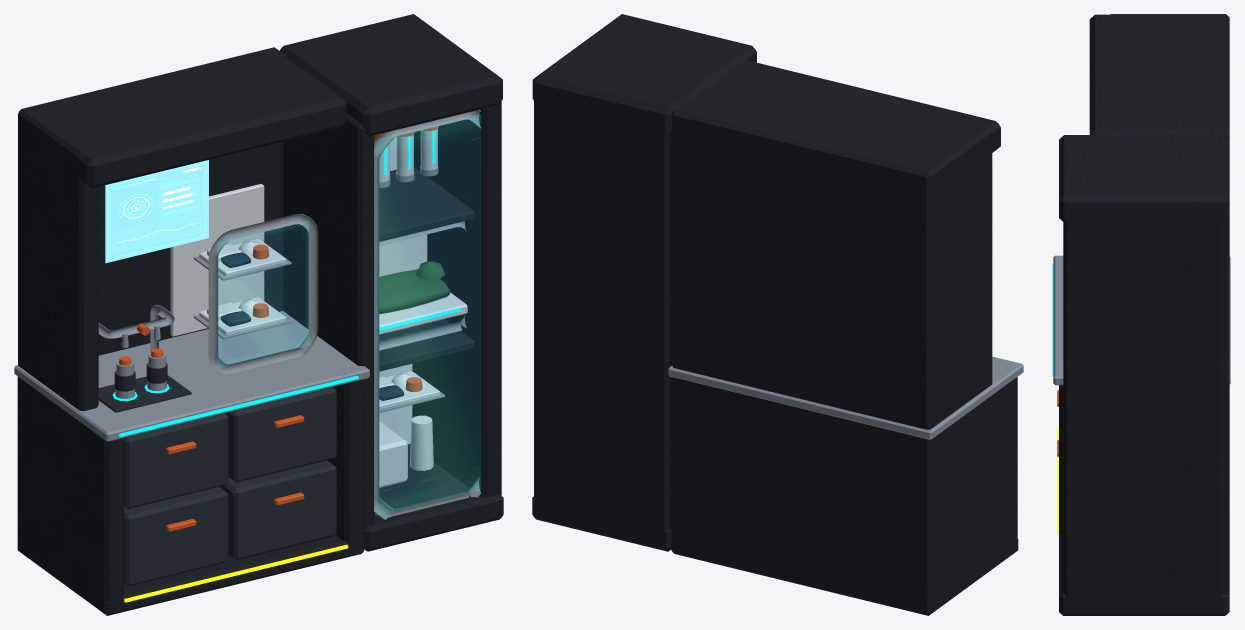
File: galley_synth_winner_01_dual_zone_synth_herb_tower.glb
3 views of the same model, side by side, from view 1: azimuth 30°, elevation 25°; view 2: azimuth 150°, elevation 25°; view 3: azimuth 270°, elevation 25° (orthographic). The views are drawn at different scales.
Parts seen in each view (by area): view 1: Galley02_SplitBayGunmetalHousing, Galley02_TranslucentOvenAndTowerDoors, Galley02_LeftBayCarbonSlateDrawers, Galley02_MachinedCounterTapAndTowerBezel, Galley02_WhiteMealTraysAndNutrientCanisters, Galley02_WidescreenOLEDNutriConsole, Galley02_RightTowerAeroponicHerbs, Galley02_CharcoalMatsAndFlaskGrips, Galley02_SignalOrangeValvesCollarsAndLatches, Galley02_CyanCoastersAndTowerLED, Galley02_WarmAmberInductionLED, Galley02_NavyRationPacks; view 2: Galley02_SplitBayGunmetalHousing, Galley02_MachinedCounterTapAndTowerBezel; view 3: Galley02_SplitBayGunmetalHousing, Galley02_MachinedCounterTapAndTowerBezel.
Part boxes in pixels (box(x1,y1,x2,y2)): Galley02_SplitBayGunmetalHousing: box(17, 14, 503, 615); Galley02_TranslucentOvenAndTowerDoors: box(218, 114, 480, 515); Galley02_LeftBayCarbonSlateDrawers: box(124, 387, 336, 586); Galley02_MachinedCounterTapAndTowerBezel: box(14, 109, 483, 519); Galley02_WhiteMealTraysAndNutrientCanisters: box(170, 128, 467, 487); Galley02_WidescreenOLEDNutriConsole: box(105, 160, 208, 263); Galley02_RightTowerAeroponicHerbs: box(379, 261, 449, 314); Galley02_CharcoalMatsAndFlaskGrips: box(98, 363, 191, 412); Galley02_SignalOrangeValvesCollarsAndLatches: box(119, 126, 438, 531); Galley02_CyanCoastersAndTowerLED: box(112, 130, 461, 436); Galley02_WarmAmberInductionLED: box(124, 544, 348, 602); Galley02_NavyRationPacks: box(221, 252, 404, 400); Galley02_SplitBayGunmetalHousing: box(532, 14, 1018, 615); Galley02_MachinedCounterTapAndTowerBezel: box(668, 356, 1023, 440); Galley02_SplitBayGunmetalHousing: box(1059, 14, 1229, 615); Galley02_MachinedCounterTapAndTowerBezel: box(1053, 255, 1230, 385).
Bounding box in the file's own units: 2.01 × 2.12 × 0.8156.
13 materials, 13 textured.
